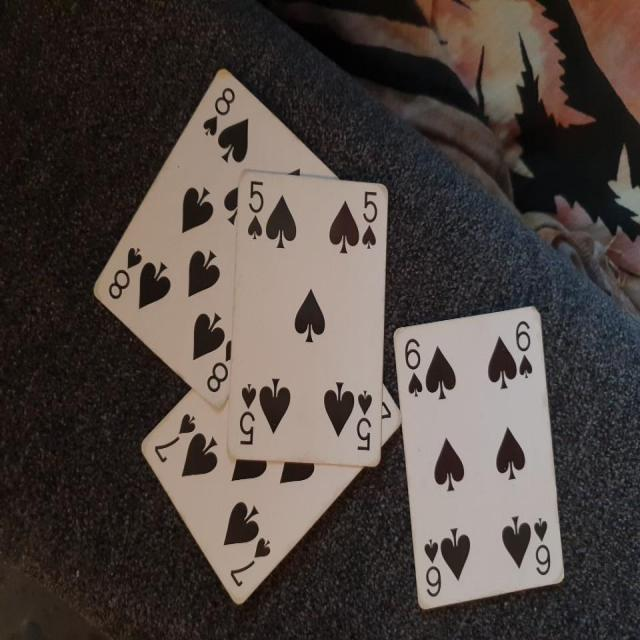5 Spades: (225, 170, 395, 465)
6 Spades: (392, 303, 570, 618)
7 Spades: (128, 369, 397, 619)
8 Spades: (91, 60, 349, 416)
